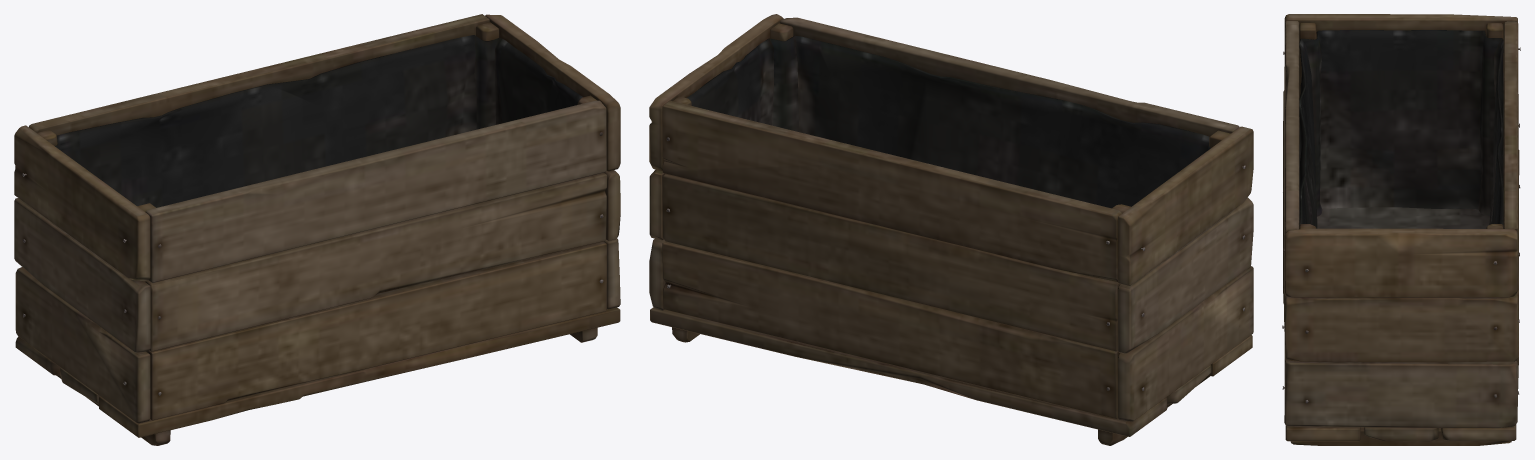
File: plantenbak_hout.gltf
3 views of the same model, side by side, from view 1: azimuth 30°, elevation 25°; view 2: azimuth 150°, elevation 25°; view 3: azimuth 270°, elevation 25° (orthographic). The views are drawn at different scales.
Visible parts, largest first — view 1: planter_box_01; view 2: planter_box_01; view 3: planter_box_01.
Boxes of the visible parts, x1,y1,x2,y2 form: planter_box_01: (14,14,620,445); planter_box_01: (649,14,1253,445); planter_box_01: (1282,14,1520,445).
Size of the model in its own units: 0.9126 by 0.4249 by 0.4137.
1 material, 1 textured.
